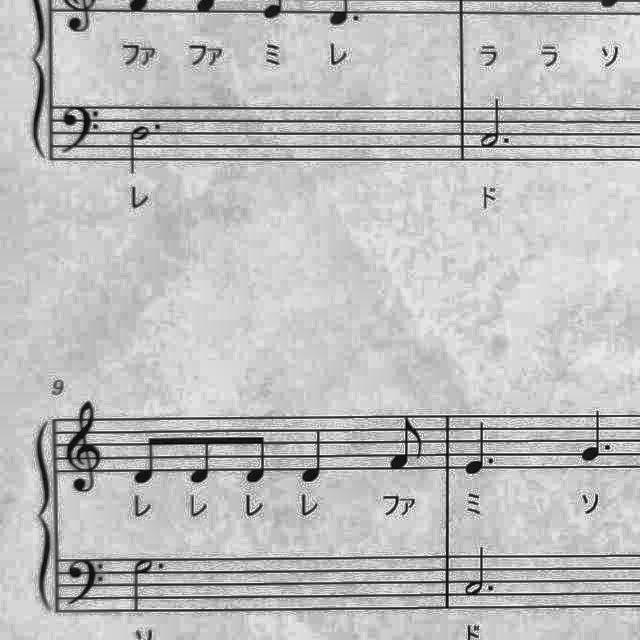Bass-clef: (54, 100, 106, 160), (62, 550, 110, 614)
Eighth-note: (382, 414, 428, 476), (127, 428, 165, 492), (242, 424, 276, 488), (186, 429, 220, 488)
Half-dot: (126, 552, 170, 616), (123, 118, 165, 172), (462, 544, 502, 600), (476, 98, 516, 154)
Quarter-dot: (576, 406, 618, 466), (459, 418, 499, 478)
Quarter-note: (296, 426, 332, 488)
Treble-clef: (60, 394, 108, 498)
